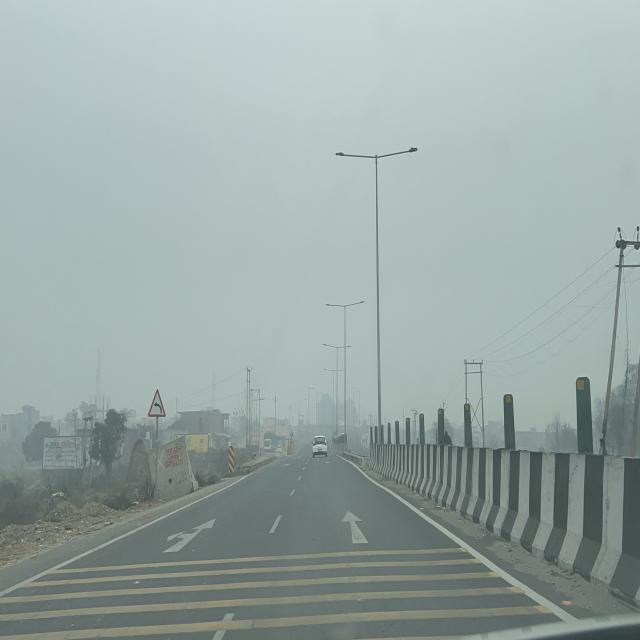LEFT_TURN_AHEAD: (148, 389, 166, 417)
